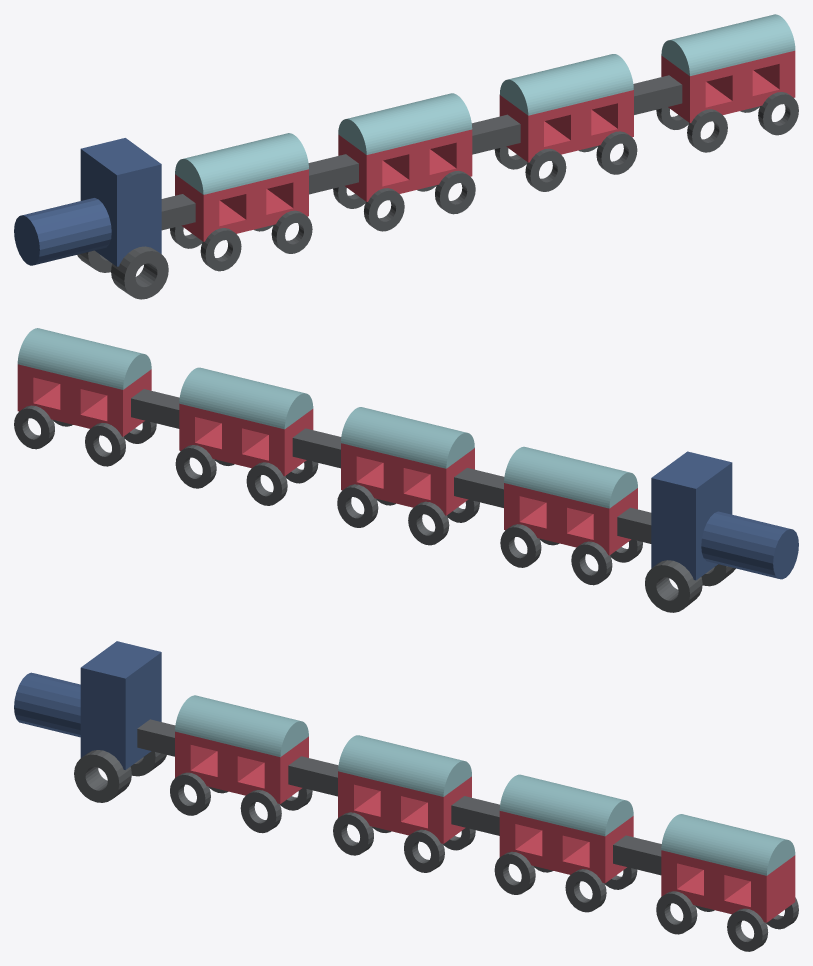
Rendered from Tremendous Wluff.glb.
3 renders of one model, top to bottom at view 1: azimuth 30°, elevation 25°; view 2: azimuth 150°, elevation 25°; view 3: azimuth 330°, elevation 25°, orthographic.
Parts seen in each view (by area): view 1: Mesh_Mesh_head_geo.001_lambert2SG.001; view 2: Mesh_Mesh_head_geo.001_lambert2SG.001; view 3: Mesh_Mesh_head_geo.001_lambert2SG.001.
Part boxes in pixels (x1,y1,x2,y2): Mesh_Mesh_head_geo.001_lambert2SG.001: (14, 14, 798, 299); Mesh_Mesh_head_geo.001_lambert2SG.001: (14, 328, 798, 612); Mesh_Mesh_head_geo.001_lambert2SG.001: (14, 641, 798, 951).
Size of the model in its own units: 336 by 53 by 38.49.
